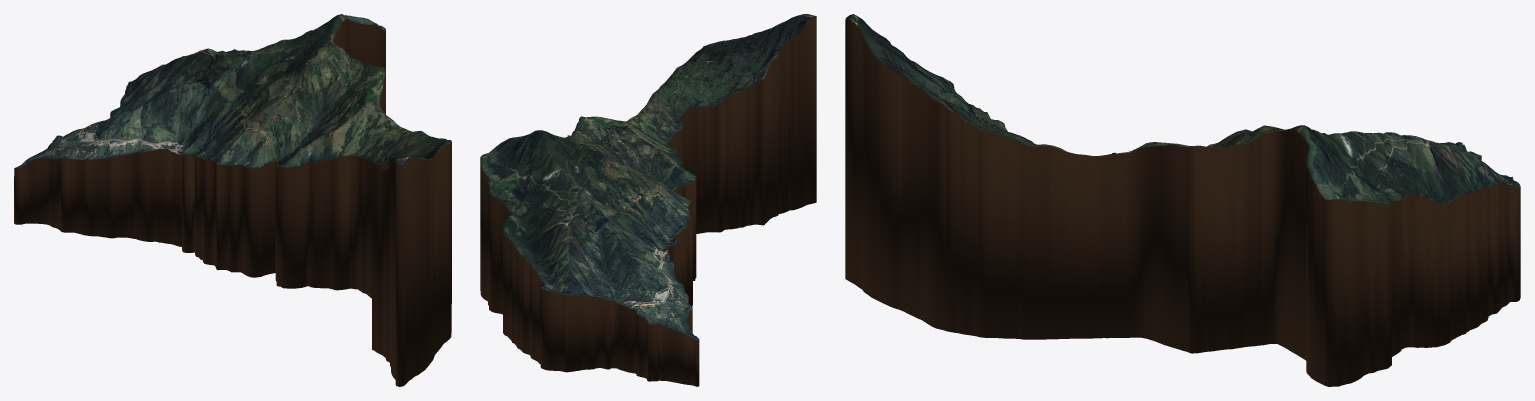
Rendered from VolcanaGuayabala.fbx.
3 views of the same model, side by side, from view 1: azimuth 30°, elevation 25°; view 2: azimuth 150°, elevation 25°; view 3: azimuth 270°, elevation 25° (orthographic). The views are drawn at different scales.
Visible parts, largest first — view 1: La Volcana Guayabala; view 2: La Volcana Guayabala; view 3: La Volcana Guayabala.
Boxes of the visible parts, x1,y1,x2,y2 form: La Volcana Guayabala: (14, 14, 451, 386); La Volcana Guayabala: (480, 14, 816, 386); La Volcana Guayabala: (845, 14, 1520, 386).
Size of the model in its own units: 446785 by 304935 by 710862.
5 materials, 4 textured.
